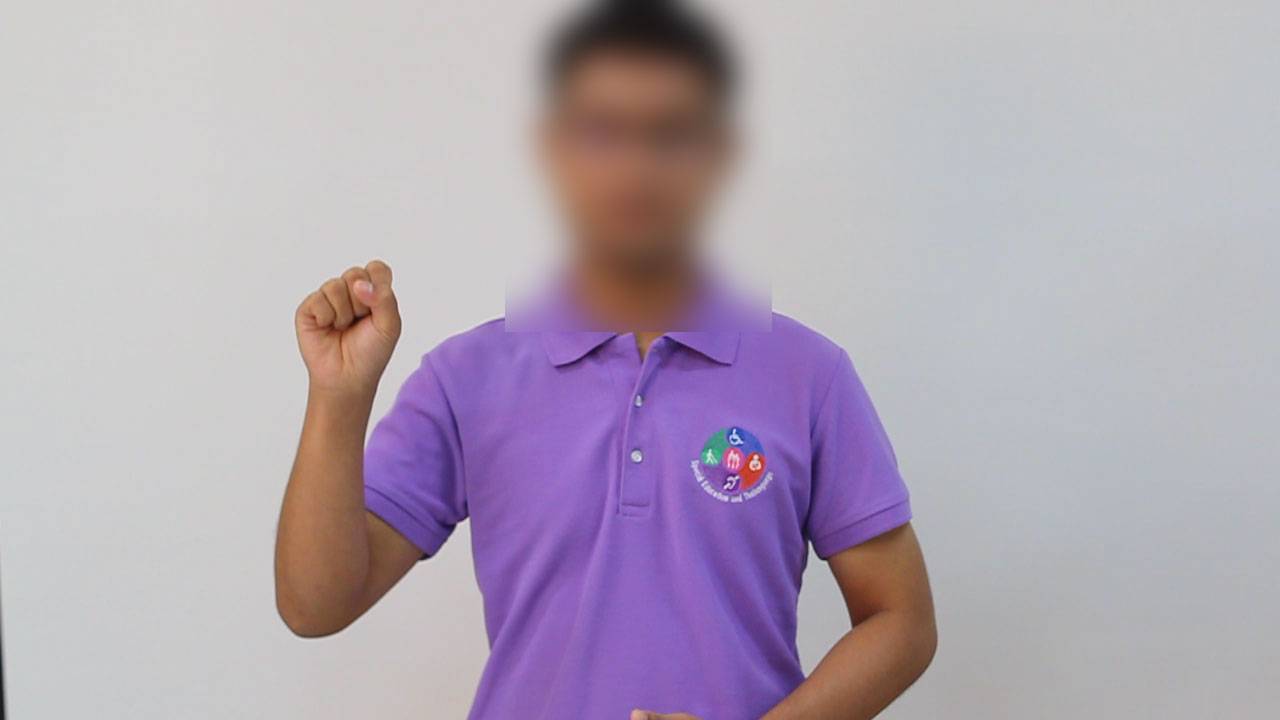sor: (281, 246, 416, 394)
